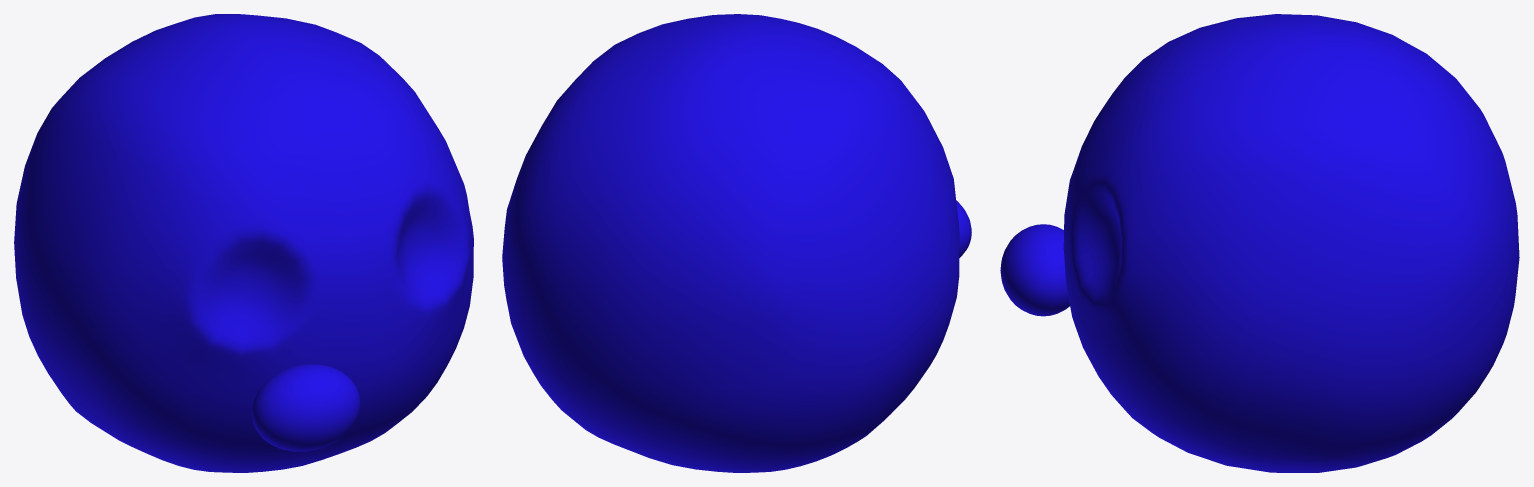
File: Space Boi Planet.fbx
The picture shows the model from 3 angles, left to right: view 1: azimuth 30°, elevation 25°; view 2: azimuth 150°, elevation 25°; view 3: azimuth 270°, elevation 25°; orthographic projection.
Visible parts, largest first — view 1: Planet.001, Snot Bubble; view 2: Planet.001, Snot Bubble; view 3: Planet.001, Snot Bubble.
Part boxes in pixels (x1,y1,x2,y2): Planet.001: [14, 14, 473, 472]; Snot Bubble: [251, 364, 360, 451]; Planet.001: [502, 14, 959, 472]; Snot Bubble: [956, 200, 971, 257]; Planet.001: [1063, 14, 1519, 472]; Snot Bubble: [1000, 224, 1069, 316].
Size of the model in its own units: 480 by 487 by 555.
